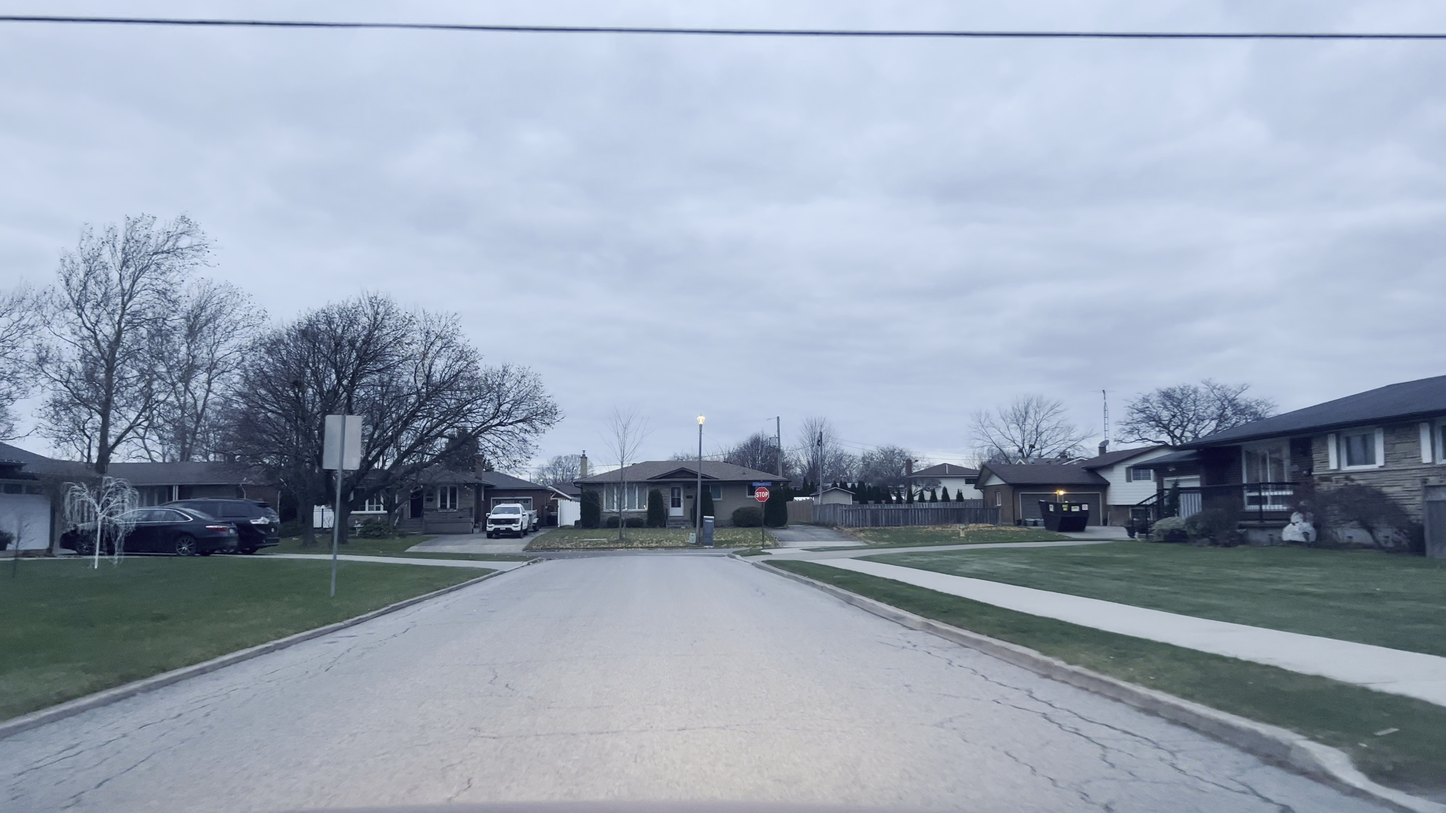cracks: (1101, 711, 1297, 813), (939, 647, 1093, 748)
